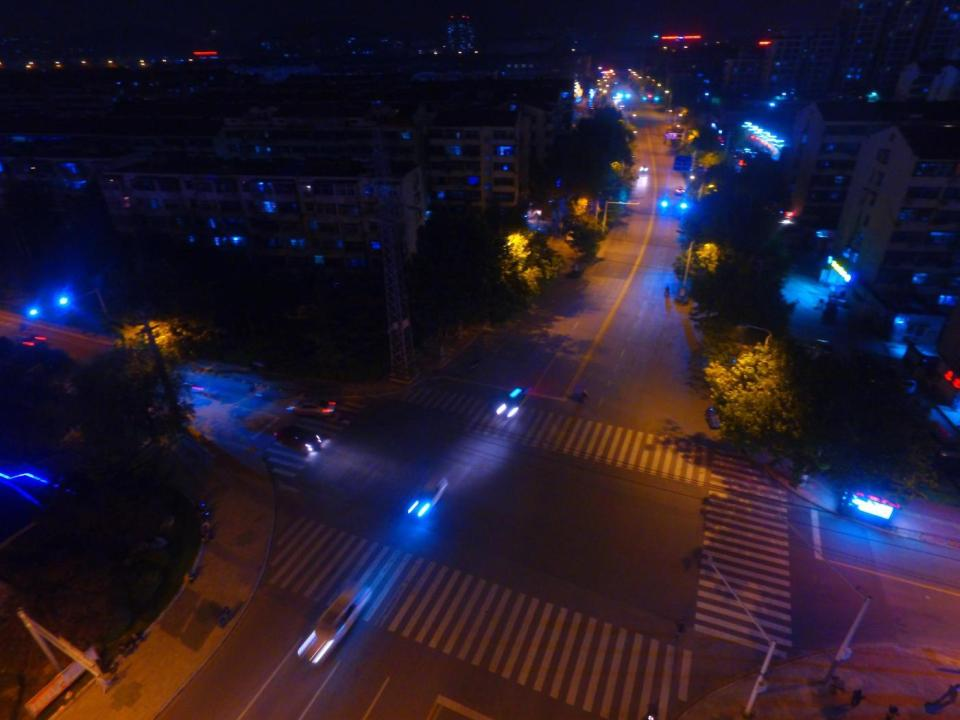car: (302, 585, 372, 668), (408, 476, 447, 522), (496, 387, 533, 420), (272, 429, 320, 454), (289, 395, 338, 416), (706, 404, 725, 428), (675, 186, 684, 197), (640, 164, 648, 172)
